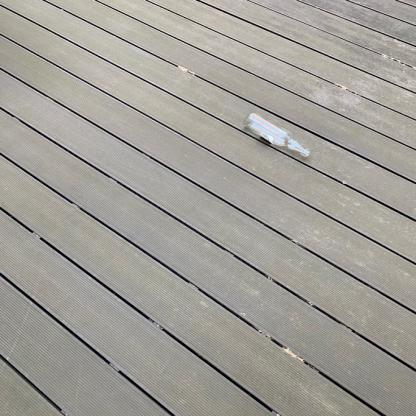trash: (240, 110, 313, 159)
